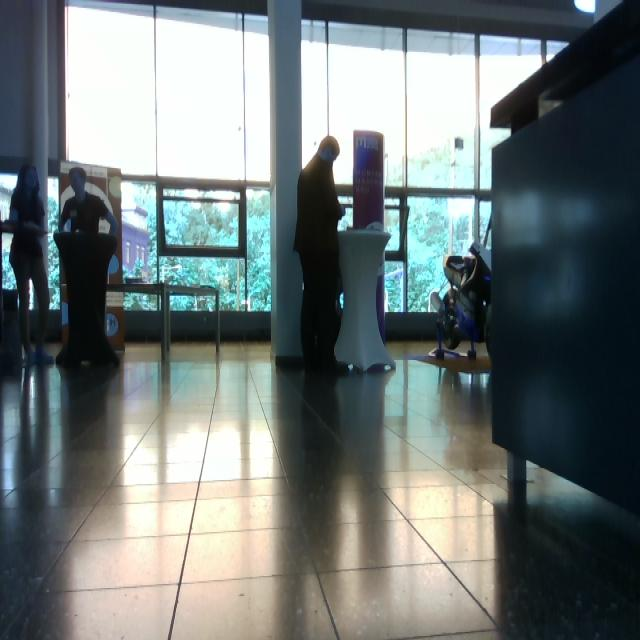light bulb: (318, 136, 341, 162), (105, 313, 119, 337), (574, 1, 596, 14)
person: (293, 136, 351, 374), (56, 168, 120, 368), (1, 164, 55, 366)
table: (333, 226, 399, 377), (164, 282, 223, 361)
tiled floor: (2, 339, 638, 639)
window: (62, 1, 273, 316)
